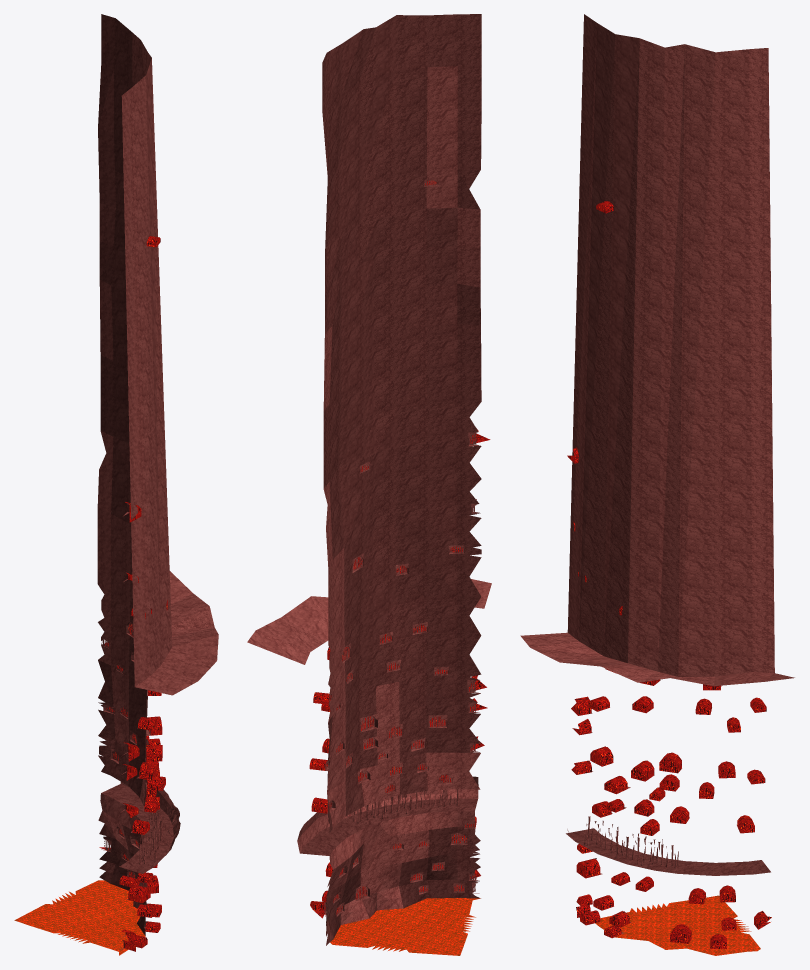
Rendered from map_base_s1.glb.
3 renders of one model, left to right at view 1: azimuth 30°, elevation 25°; view 2: azimuth 150°, elevation 25°; view 3: azimuth 270°, elevation 25°, orthographic. The views are drawn at different scales.
Visible parts, largest first — view 1: MapBaseS1Rock; view 2: MapBaseS1Rock; view 3: MapBaseS1Rock.
Boxes of the visible parts, box(x1,y1,x2,y2) form: MapBaseS1Rock: box(14, 14, 218, 955); MapBaseS1Rock: box(247, 14, 491, 955); MapBaseS1Rock: box(520, 14, 794, 955).
Size of what is drawn, in the model's own units: 73.38 by 343 by 94.02.
Materials: 5 (5 with a texture image).
